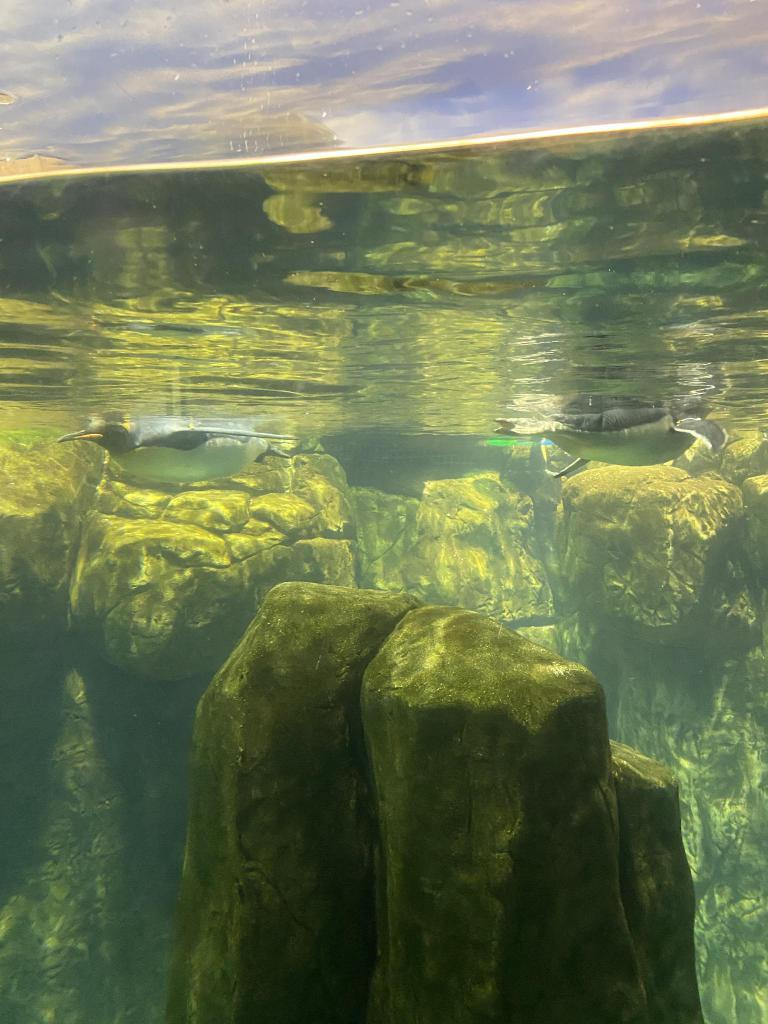starfish: (491, 401, 725, 479), (56, 418, 290, 482)
